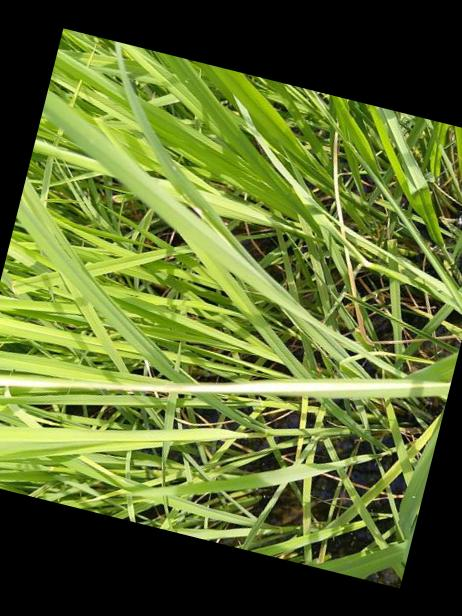Leaf Blight: (0, 373, 451, 400)
